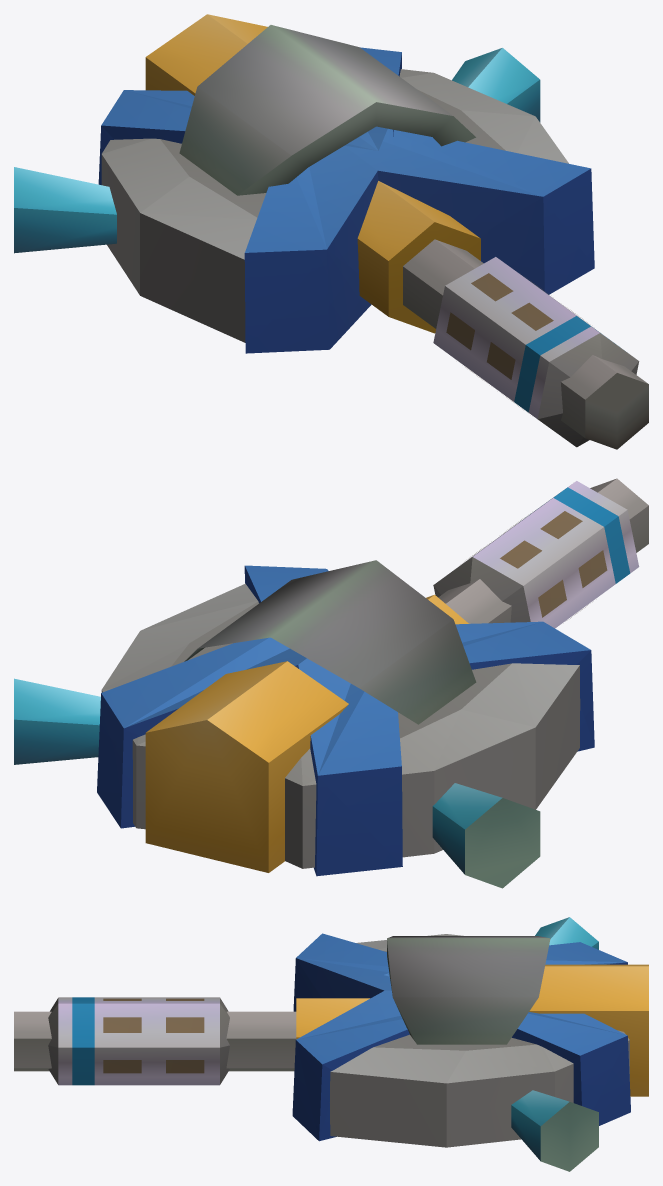
The model's file is Fortress_01_gun_03.fbx.
3 renders of one model, top to bottom at view 1: azimuth 30°, elevation 25°; view 2: azimuth 150°, elevation 25°; view 3: azimuth 270°, elevation 25°, orthographic. The views are drawn at different scales.
Visible parts, largest first — view 1: Fortress_01_gun_03; view 2: Fortress_01_gun_03; view 3: Fortress_01_gun_03.
Part boxes in pixels (bbox=[...]): Fortress_01_gun_03: bbox=[14, 14, 648, 449]; Fortress_01_gun_03: bbox=[14, 478, 648, 888]; Fortress_01_gun_03: bbox=[14, 917, 648, 1171].
Bounding box in the file's own units: 54.04 × 18.53 × 72.92.
